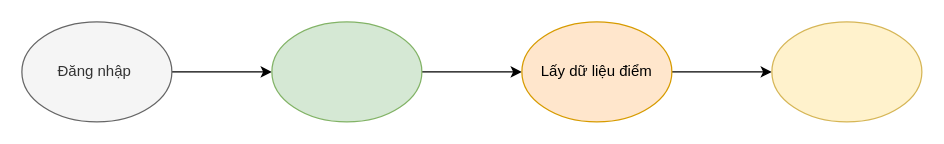
Image size: 944x144. Some labels were removed from this diagram. The shapes that lost their labels are listed below. From the top down, each one's box as (x1, y1, x2, y2) in pixels, then its label:
(271, 21, 422, 122): Chọn mục xem điểm
(771, 21, 922, 122): Hiển thị điểm
